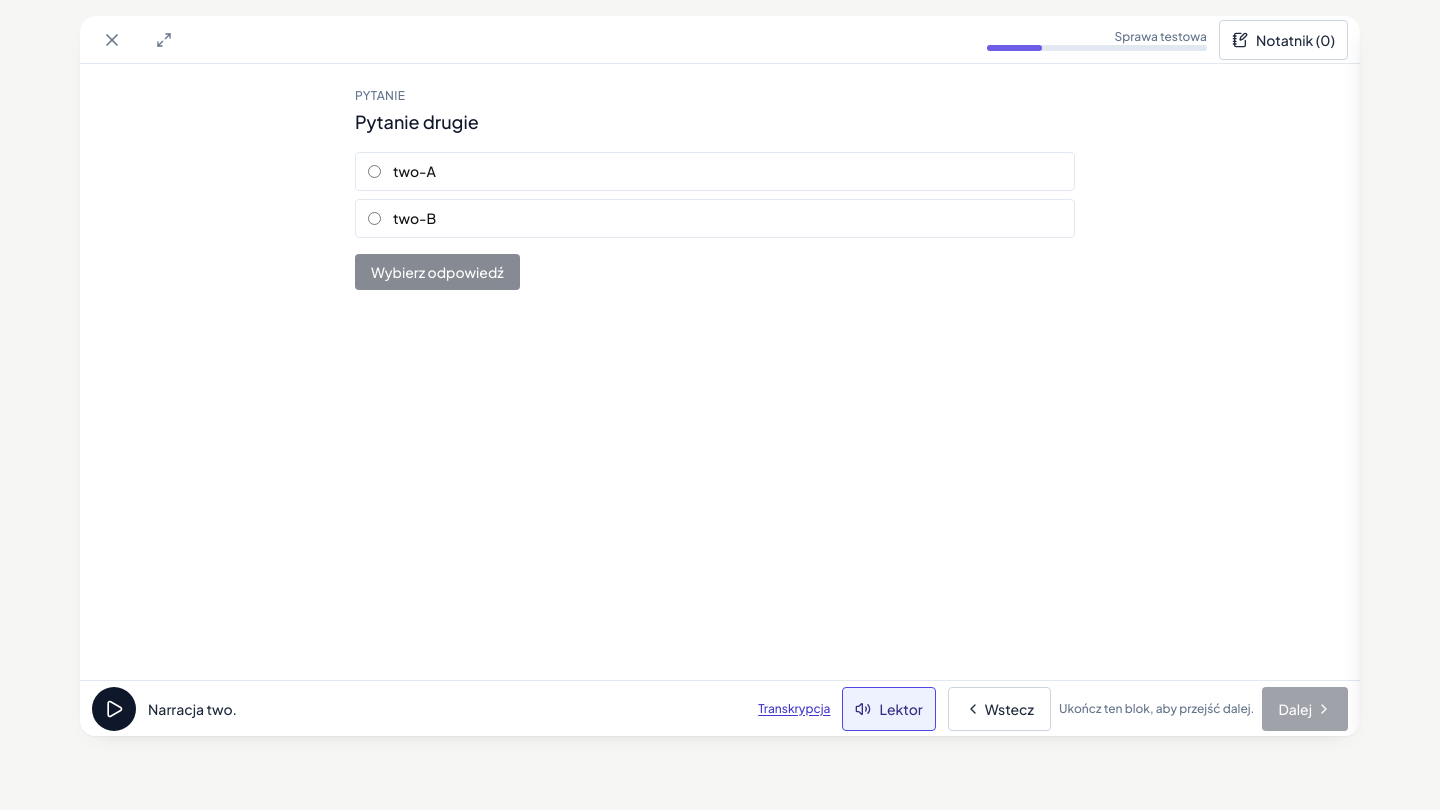
Test: CoursePlayer: powłoka (postęp, nawigacja, notatnik, lektor) › Wstecz / Dalej (podgląd tylko do odczytu) › "Wstecz" jest nieaktywne w trakcie wysyłania odpowiedzi (nie da się otworzyć podglądu w trakcie zapisu); po odpowiedzi aktywne dopiero po wyniku
Click the radio button labelled "two-A" at (374, 172), box 368,165 -> 381,178
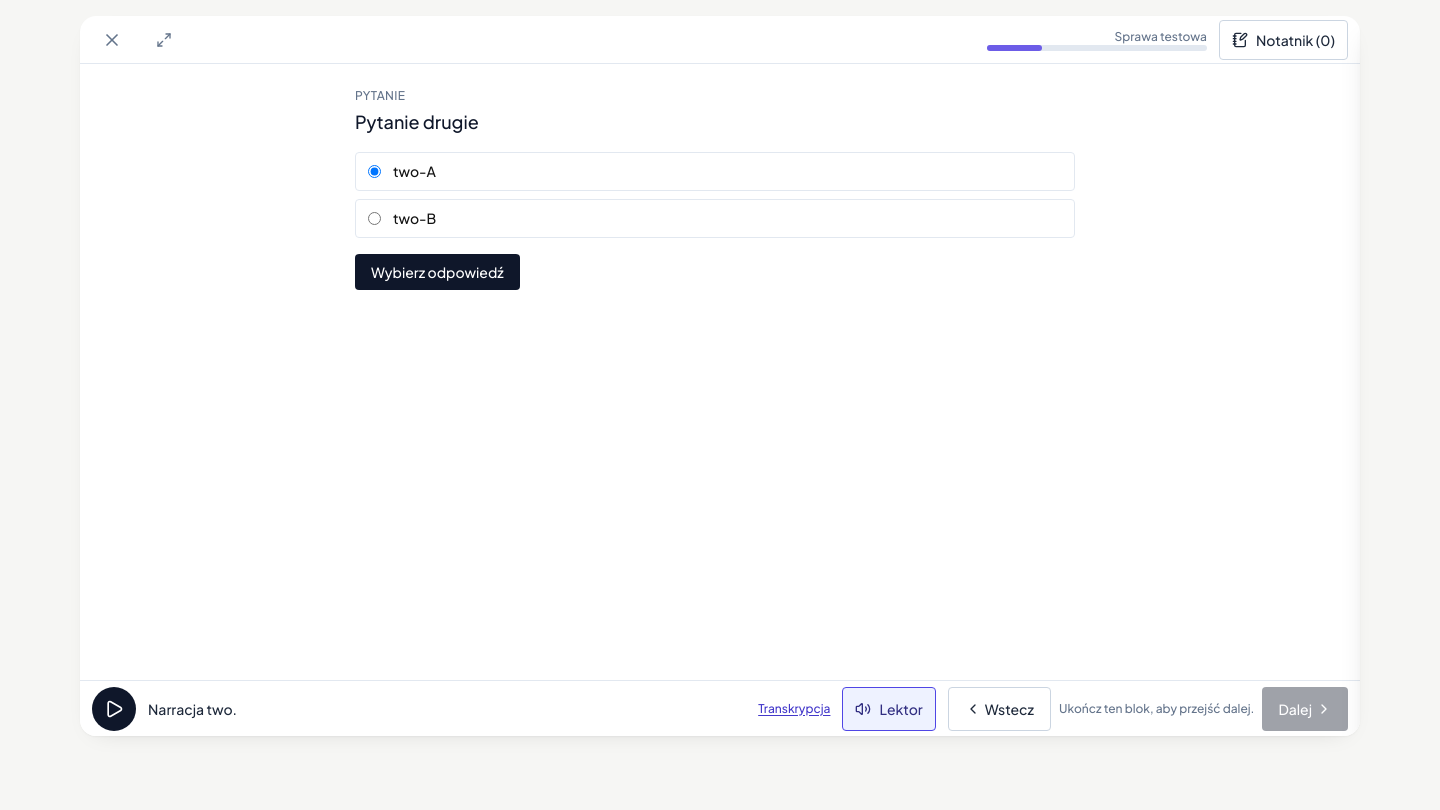
Click the button "Wybierz odpowiedź" at (437, 272), box 355,254 -> 520,290
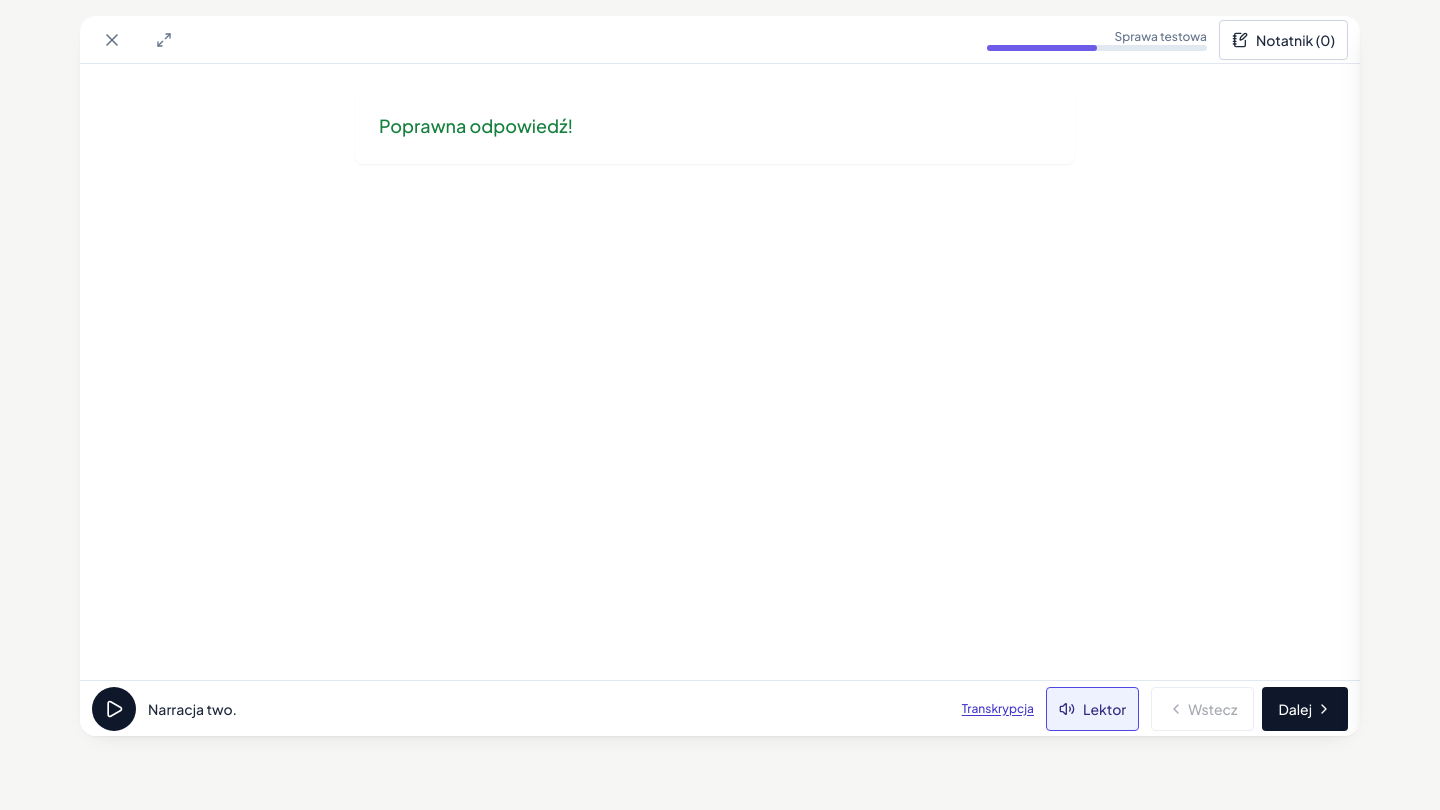
Expected: the button "Wstecz" is disabled, 1151,686 -> 1254,730
Expected: the text "Poprawna odpowiedź!" is shown, 379,114 -> 573,137
Click the button "Dalej" at (1305, 708), box 1262,686 -> 1348,730
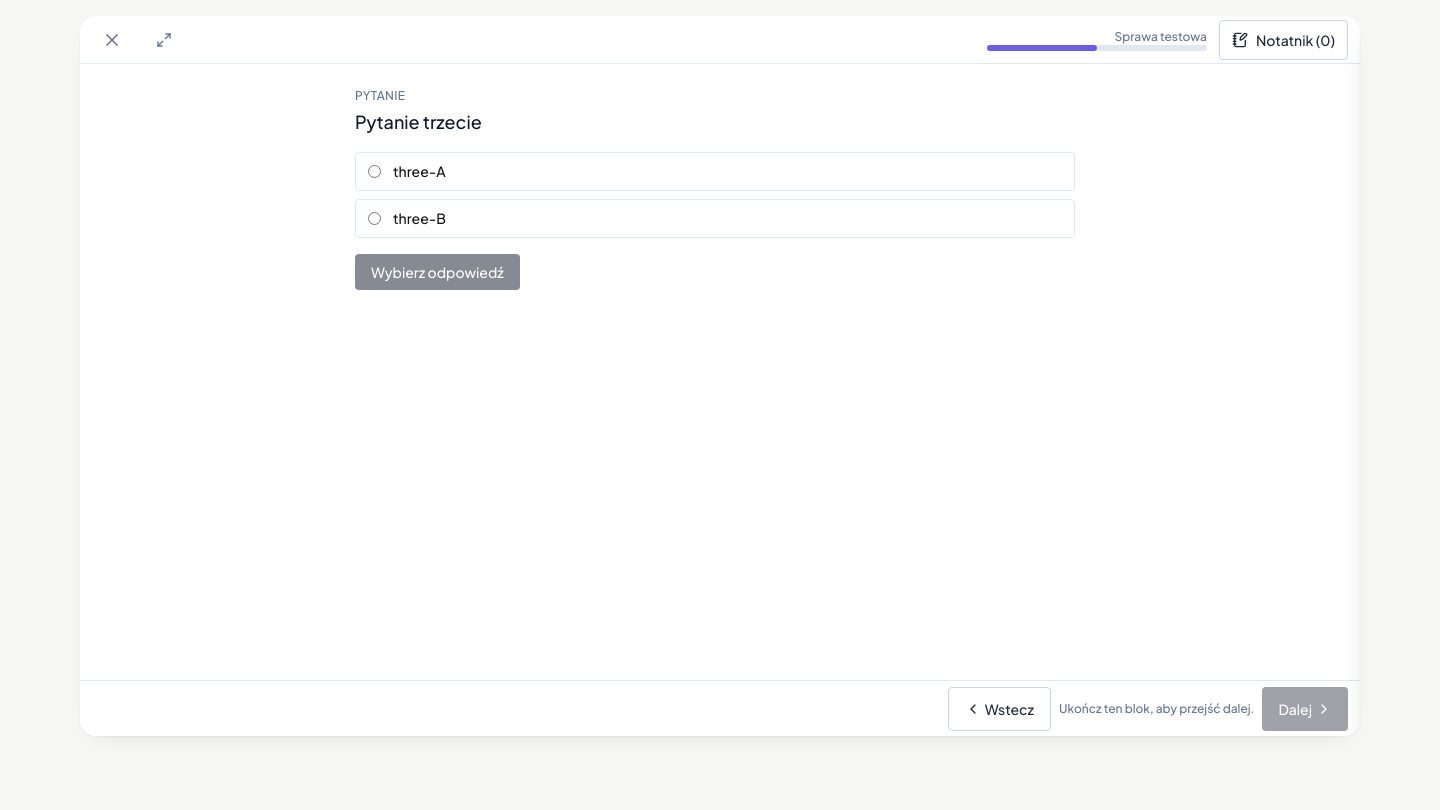
Expected: the text "Pytanie trzecie" is shown, 355,110 -> 482,133
Expected: the button "Wstecz" is enabled, 948,686 -> 1051,730
